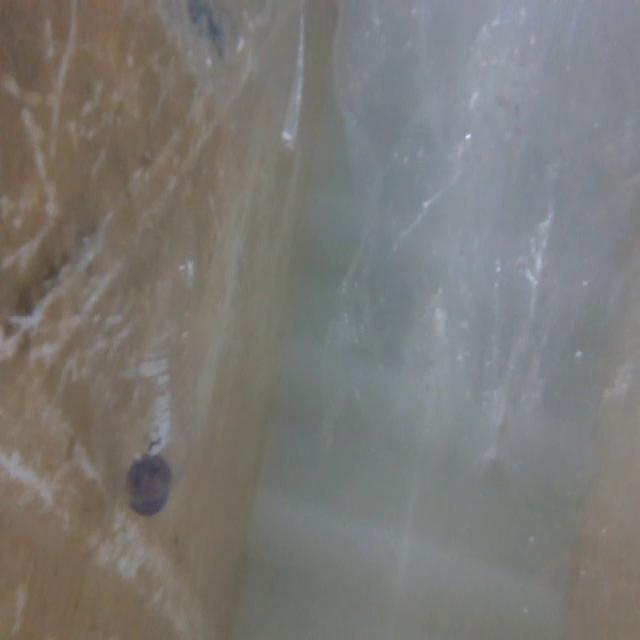plastic bags: (324, 1, 640, 461), (181, 0, 301, 171)
plastic bottle: (52, 188, 214, 532)
